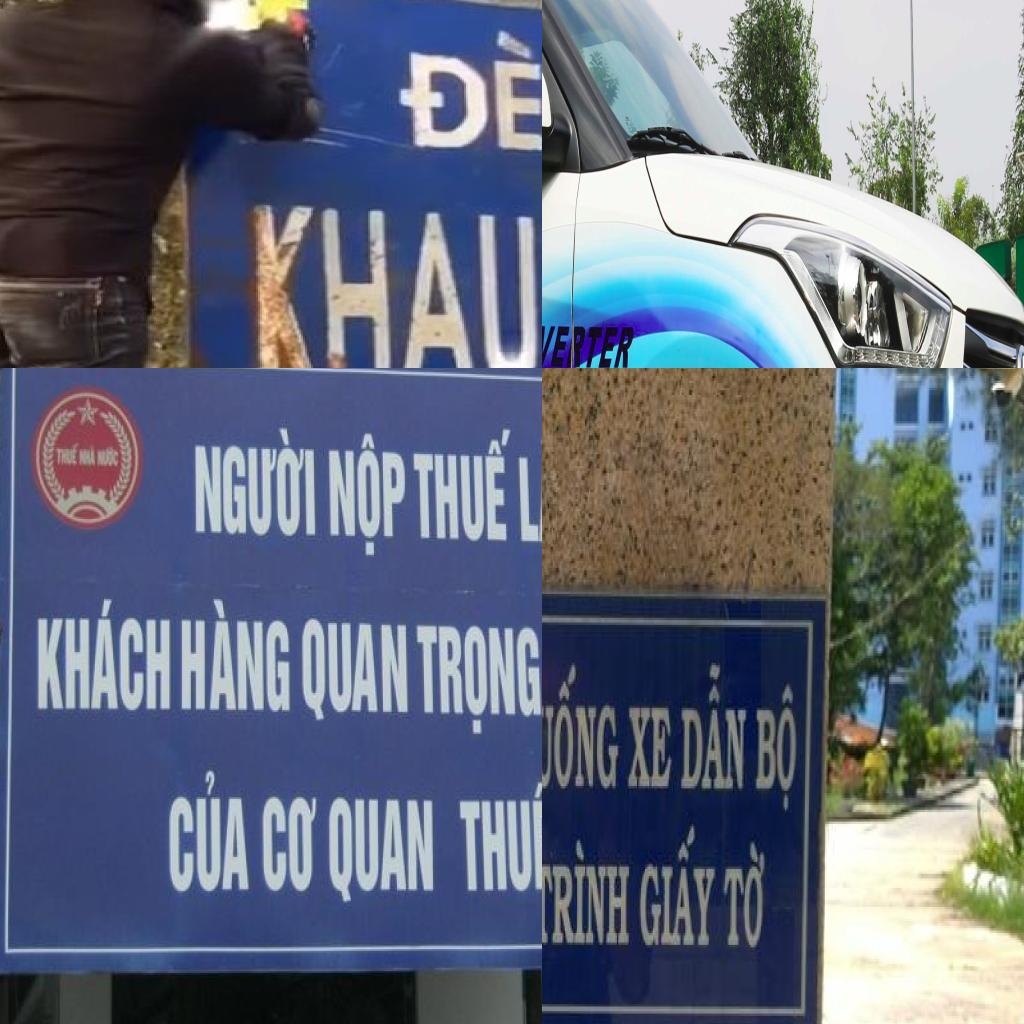text: (235, 197, 542, 368), (382, 15, 542, 165), (32, 591, 176, 717), (411, 621, 542, 739), (191, 425, 320, 540), (181, 591, 296, 717), (411, 422, 514, 548), (324, 794, 438, 906), (166, 756, 256, 896), (300, 613, 412, 724), (327, 430, 415, 568), (542, 833, 637, 949), (638, 826, 722, 952), (677, 656, 752, 796), (542, 660, 620, 793), (259, 788, 320, 898), (753, 679, 801, 817), (625, 700, 676, 796), (514, 430, 542, 546), (55, 440, 80, 468), (96, 444, 121, 469), (78, 444, 98, 468)
